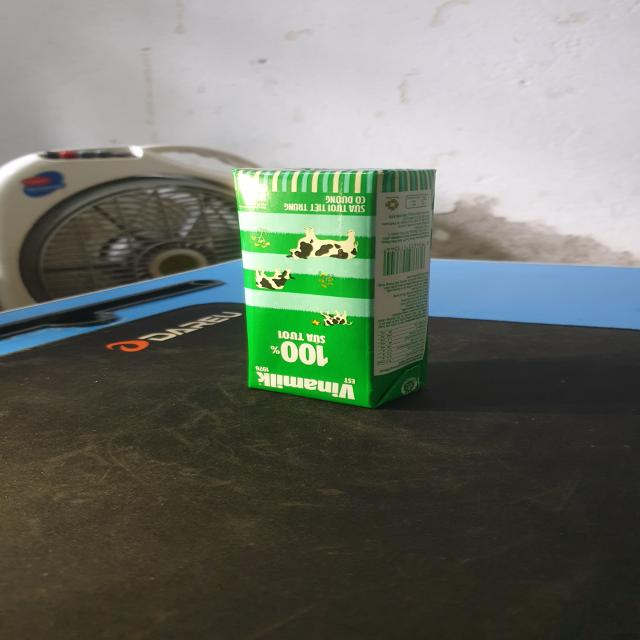Vina: (238, 169, 441, 412)
